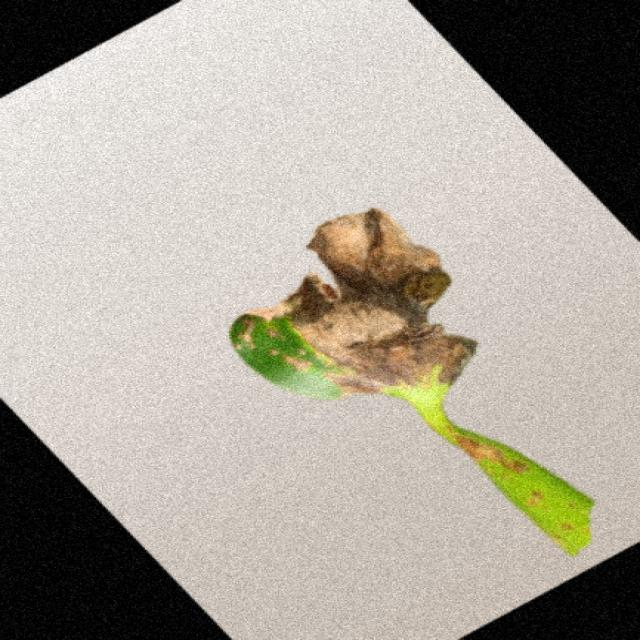daun berpenyakit karat: (230, 209, 595, 556)
